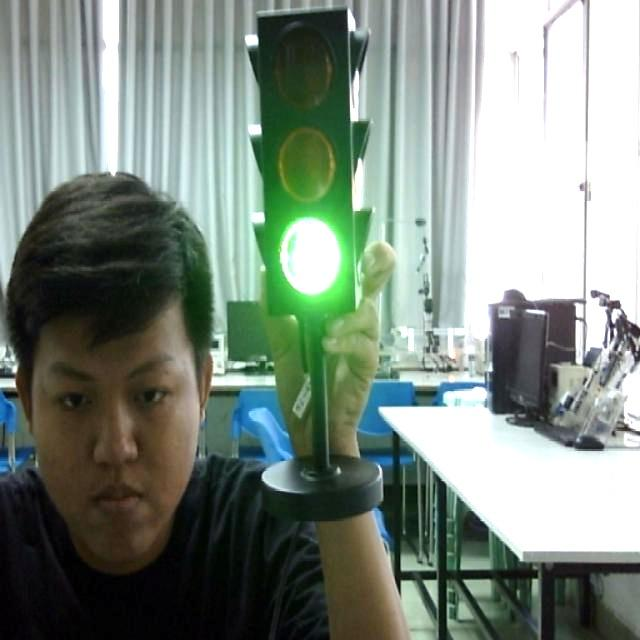Green: (247, 3, 377, 321)
